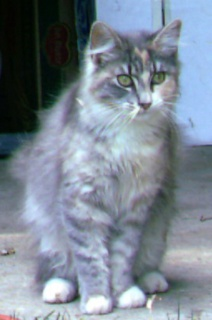Cat: (8, 18, 193, 311)
